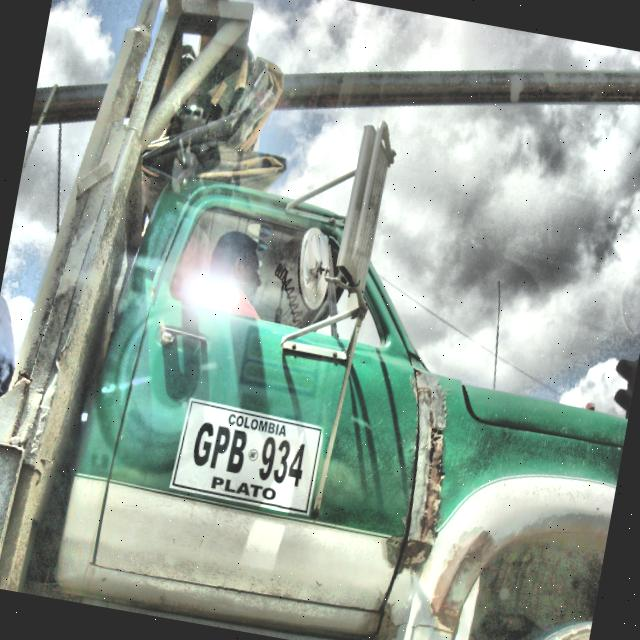plate: (169, 398, 323, 516)
